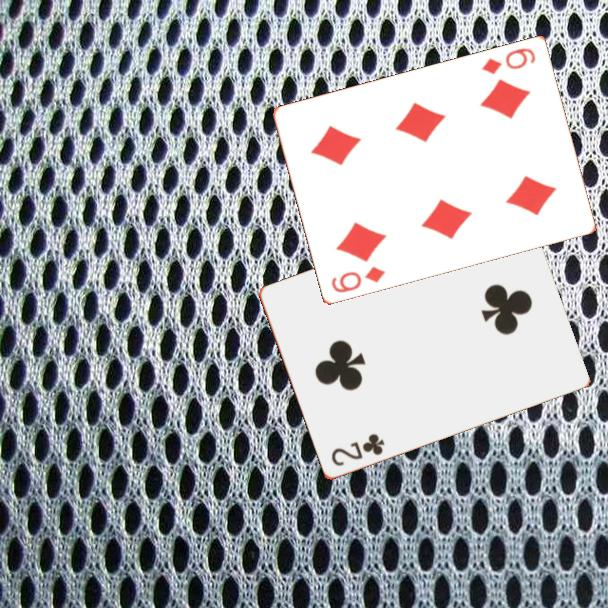c02: (327, 430, 388, 470)
d06: (328, 263, 388, 296), (478, 45, 538, 78)
